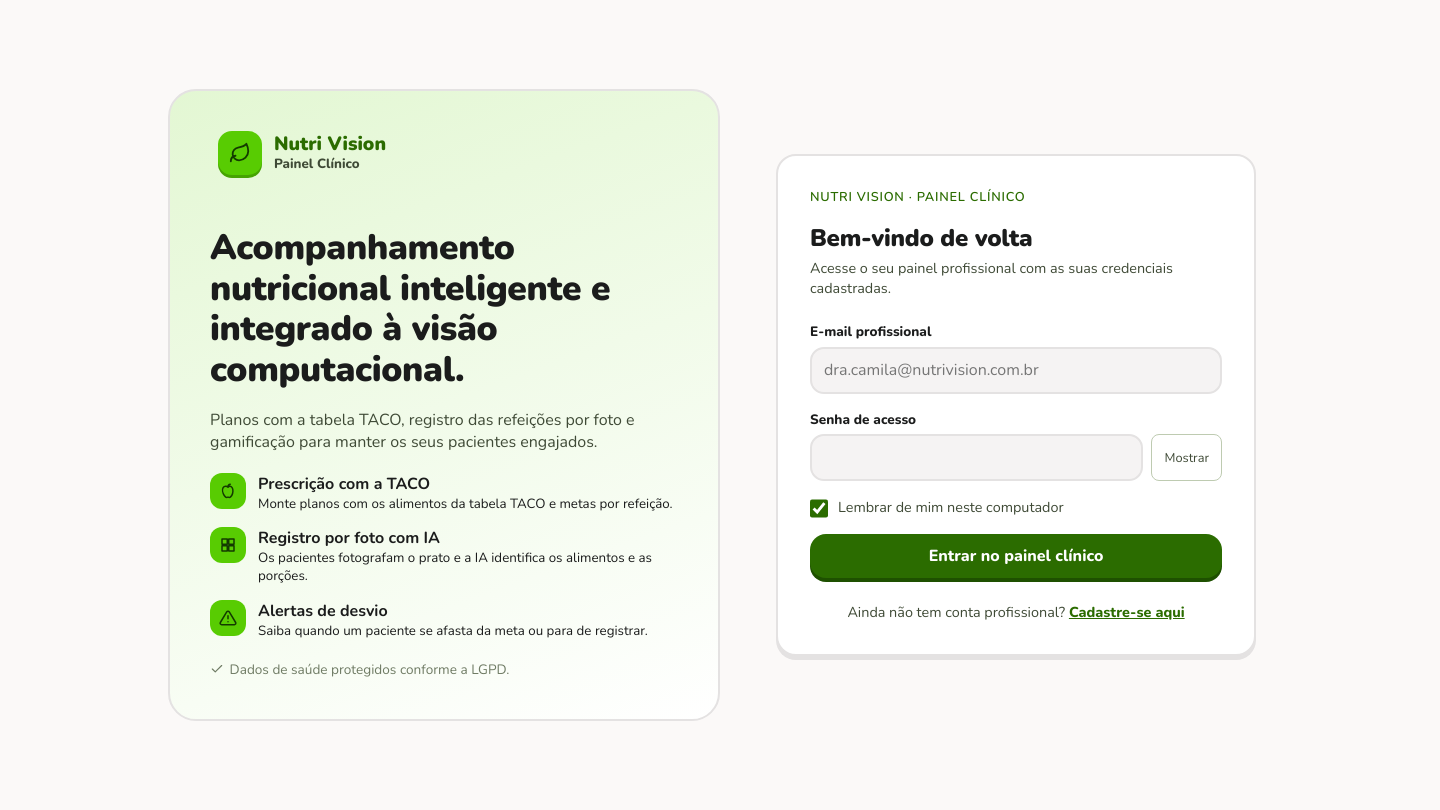
App › do historico do plano, Editar plano ativo abre o construtor ja carregado
Type "ana@exemplo.com" into the field labelled "E-mail profissional".
click(1016, 370); type("ana@exemplo.com")  # box [810,347,1222,394]
Type "senha-forte-123" into the password field labelled "Senha de acesso".
click(977, 458); type("senha-forte-123")  # box [810,434,1144,481]
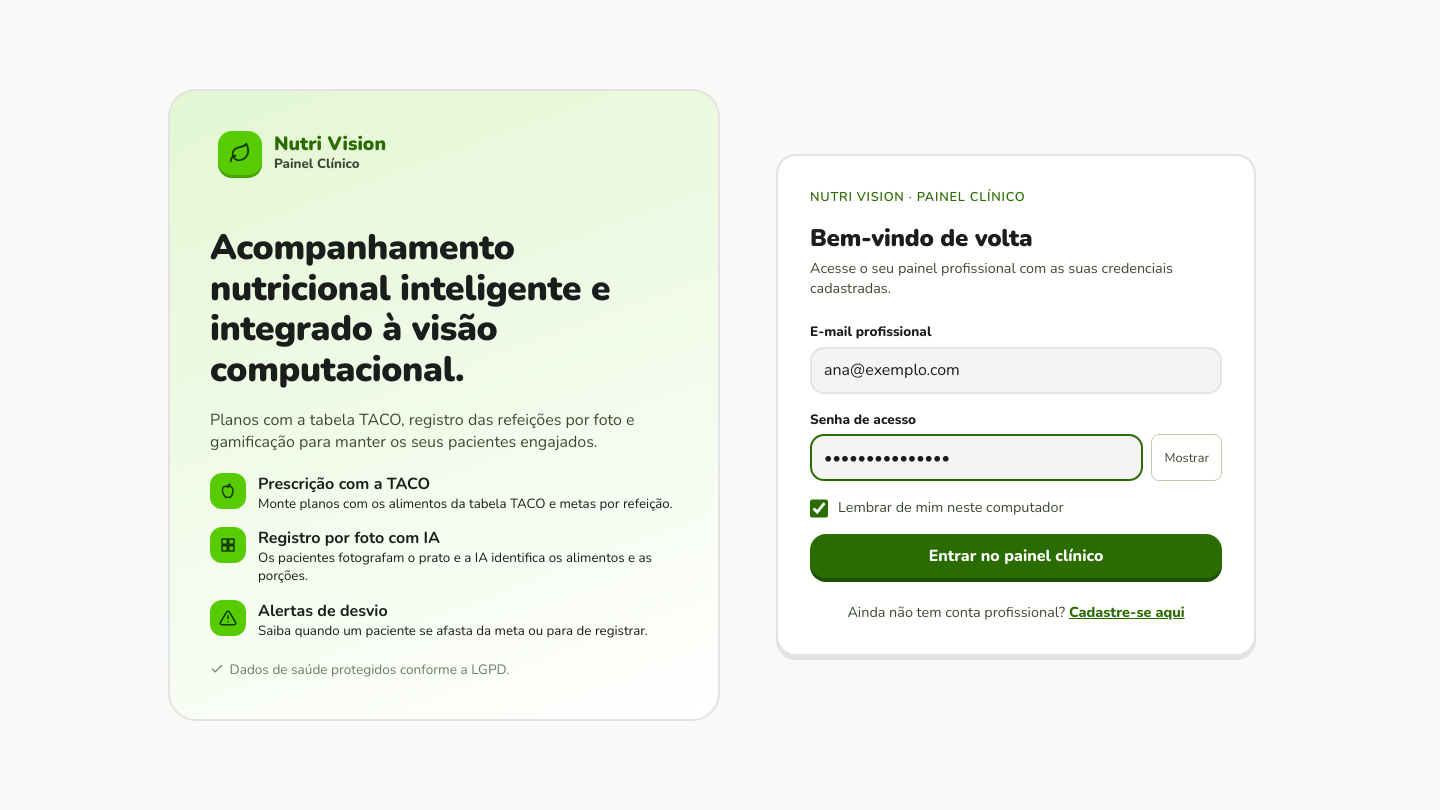
Click the button "Entrar no painel clínico".
click(1016, 556)  # box [810,534,1222,578]
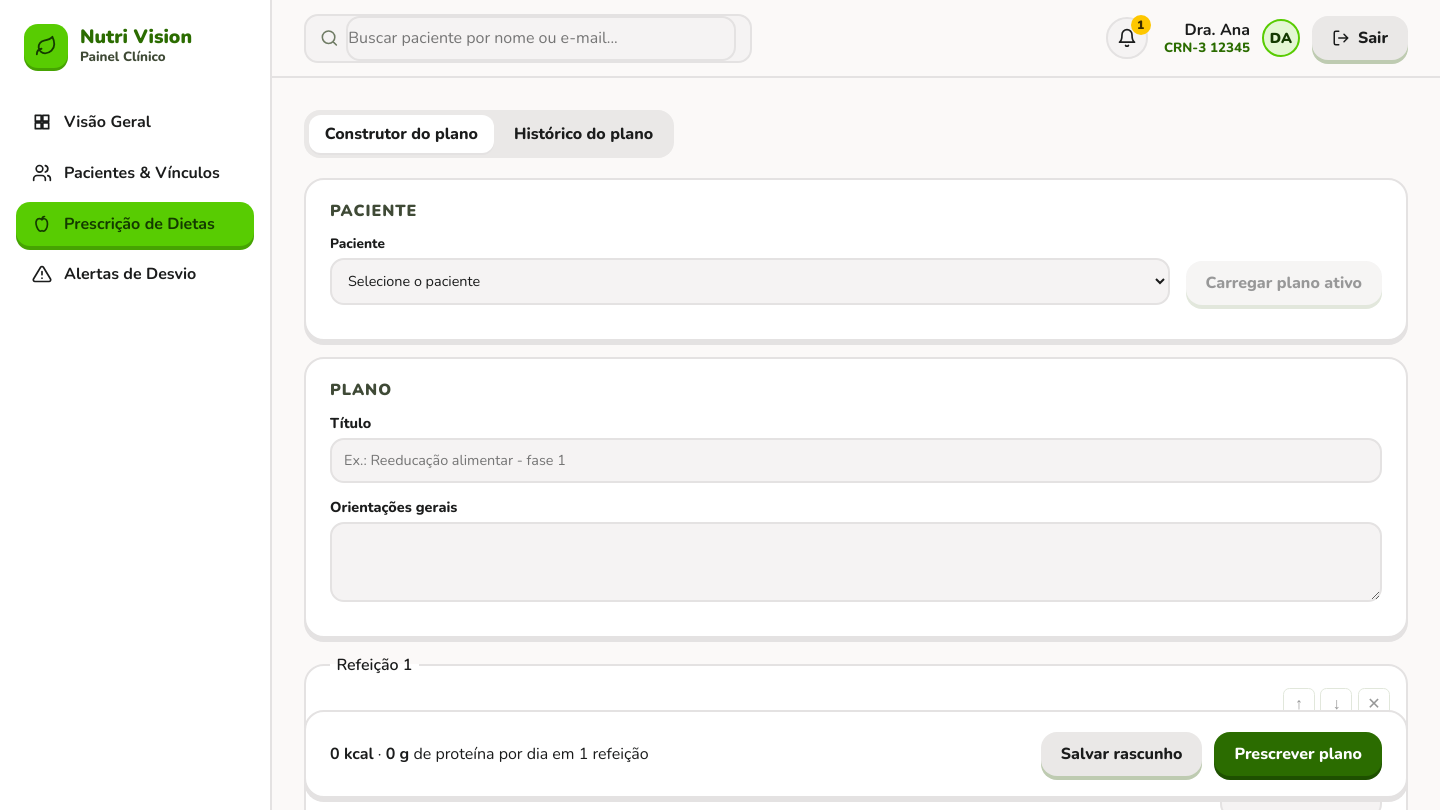
Click the button "Histórico do plano".
click(584, 134)  # box [498,115,669,153]
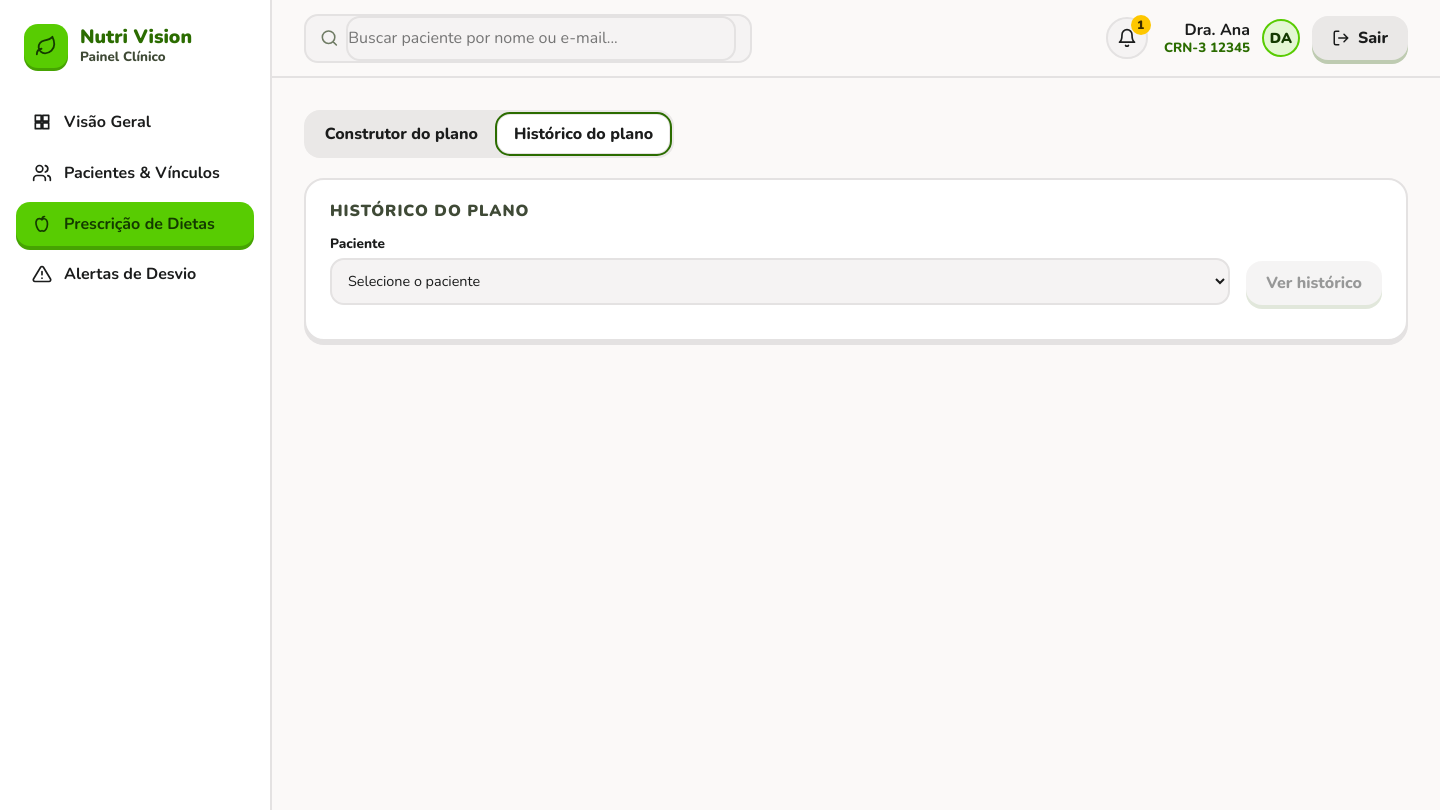
Select "Alex Silva (alex@email.com)" in the dropdown labelled "Paciente" at [780, 281], box [330,258,1230,305]
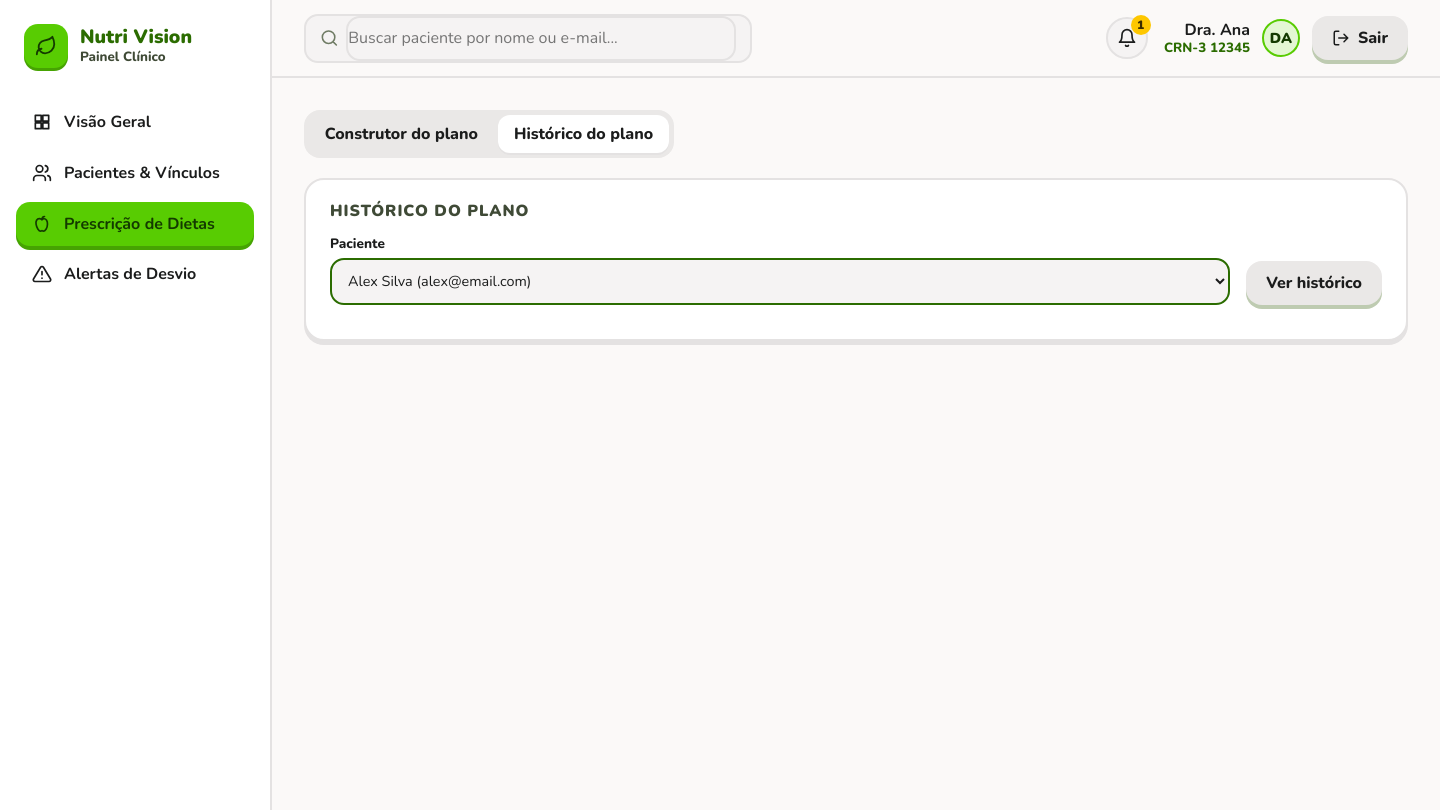
Click the button "Ver histórico".
click(1314, 282)  # box [1246,260,1382,304]
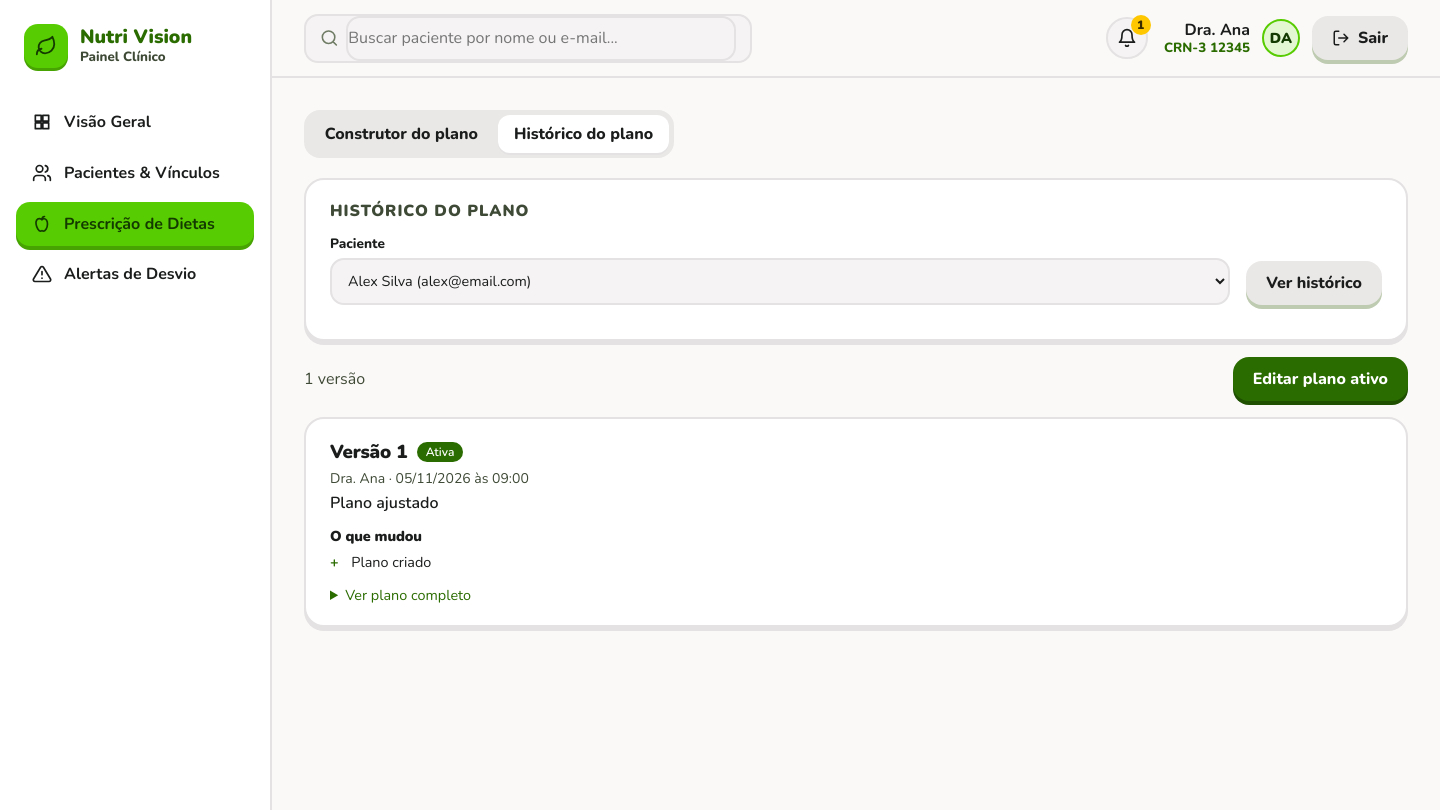
Click the button "Editar plano ativo".
click(1320, 379)  # box [1233,357,1408,401]
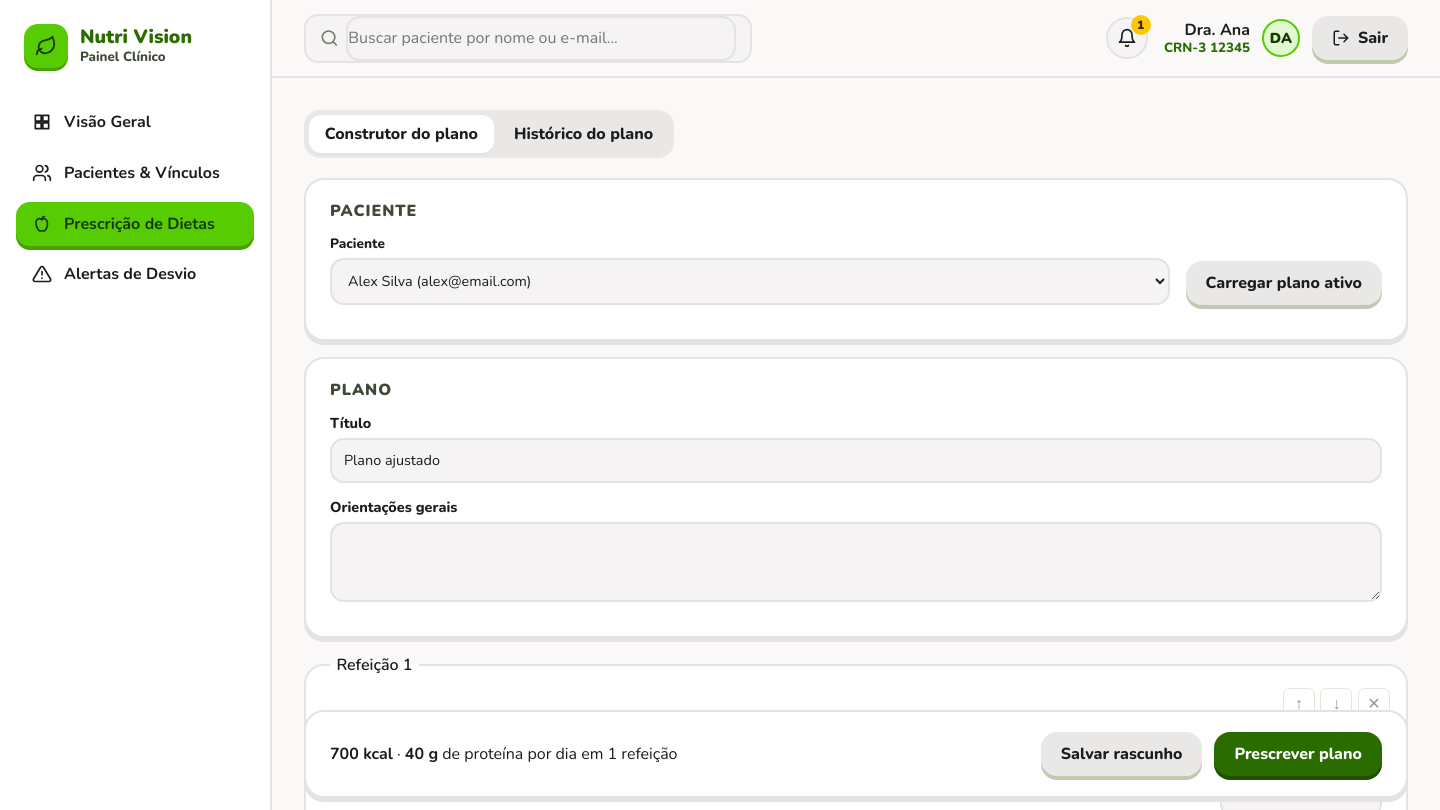
Now the field labelled "Título" holds "Plano ajustado", box [330,438,1382,482]
